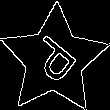P_SE: (24, 30, 84, 90)
